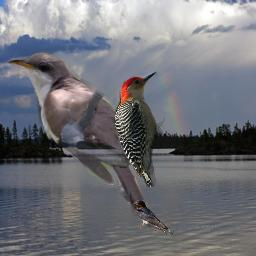Cuckoo: (5, 48, 151, 223)
Swallow: (133, 200, 175, 236)
Woodpecker: (113, 71, 165, 187)
